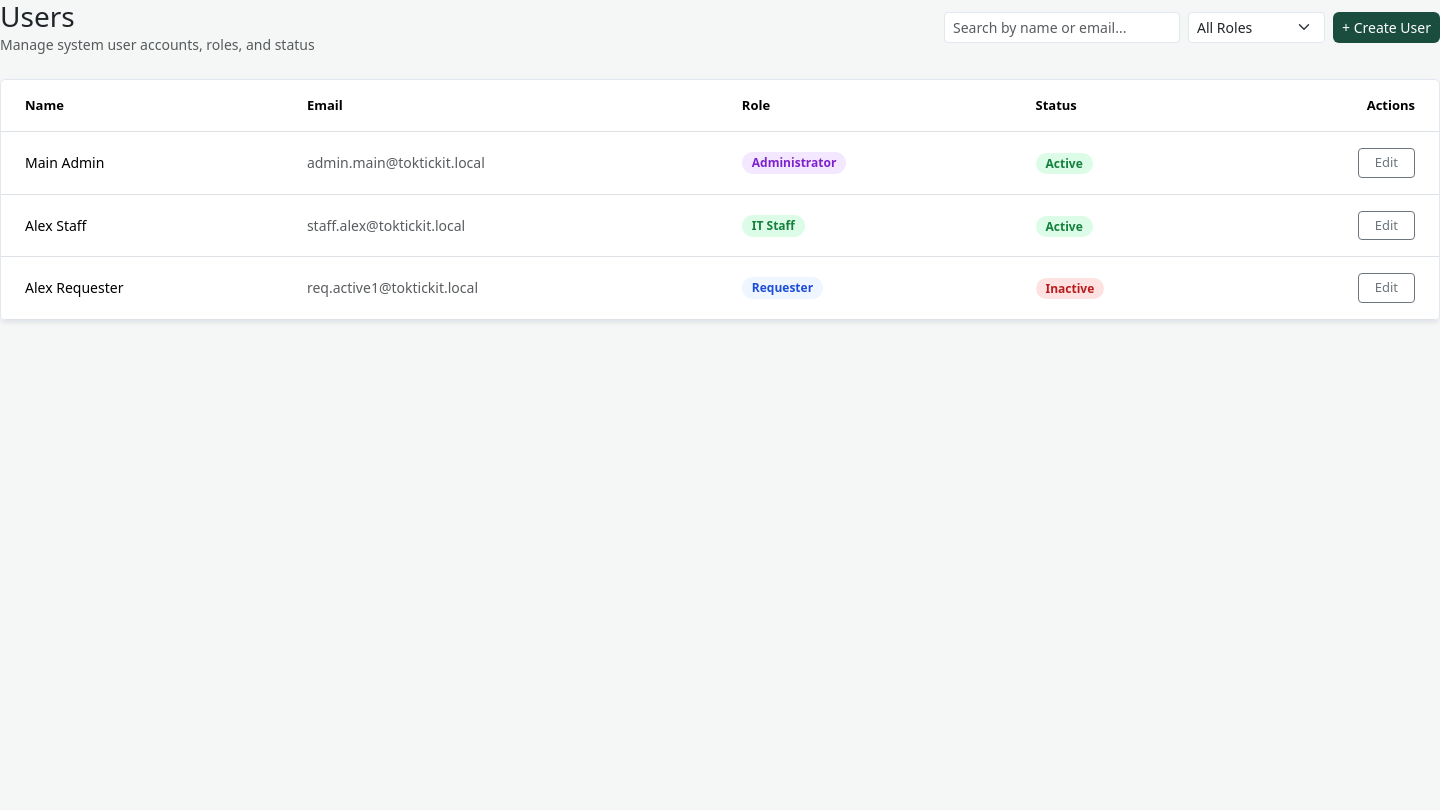
Test: UI-06, UI-07, UI-08: Administrator User Management Component Tests › UI-07: displays duplicate email 409 conflict error
Click the button with test id "create-user-btn".
click(1386, 27)  # box [1333,12,1439,43]
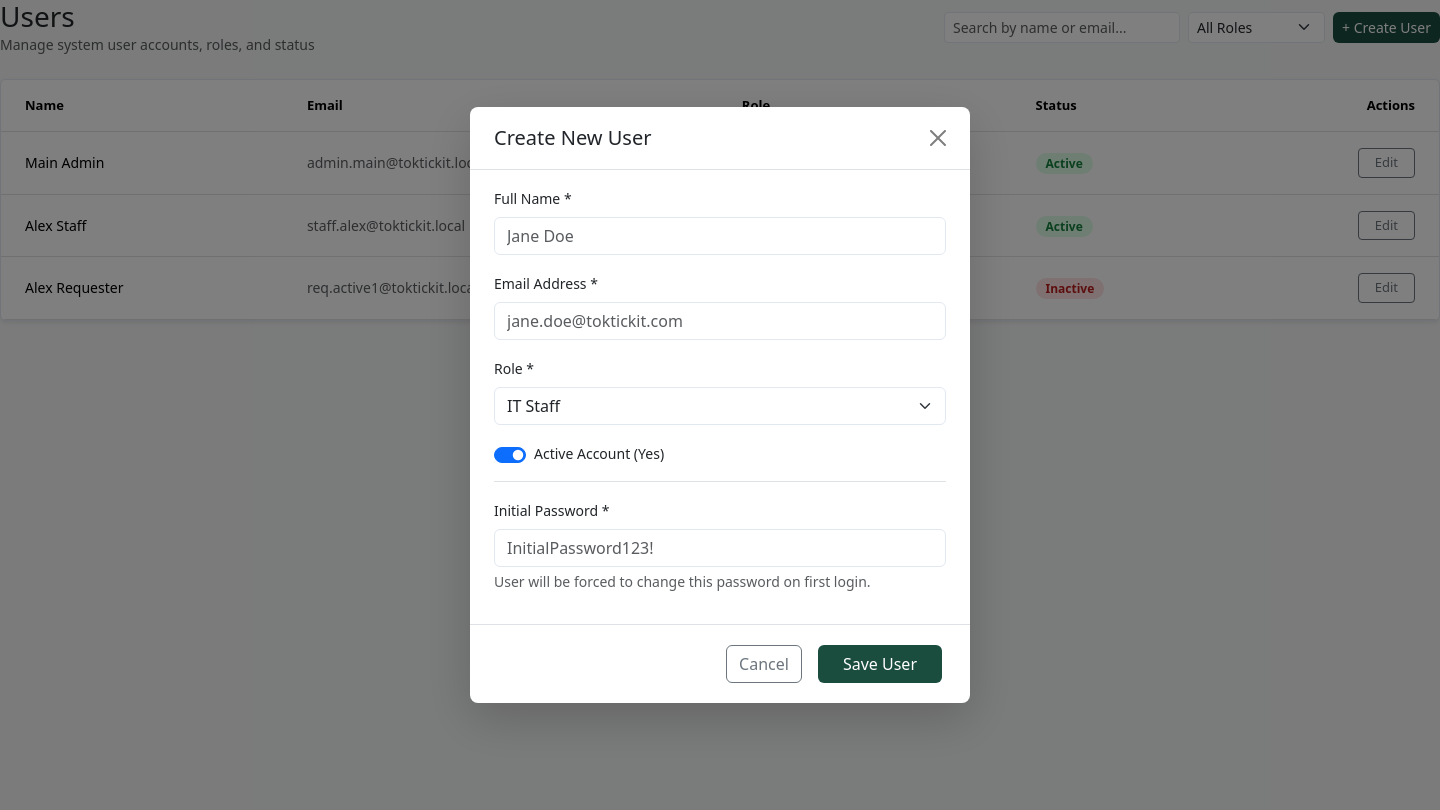
Type "Duplicate User" into the field with test id "input-name".
click(720, 236); type("Duplicate User")  # box [494,217,946,255]
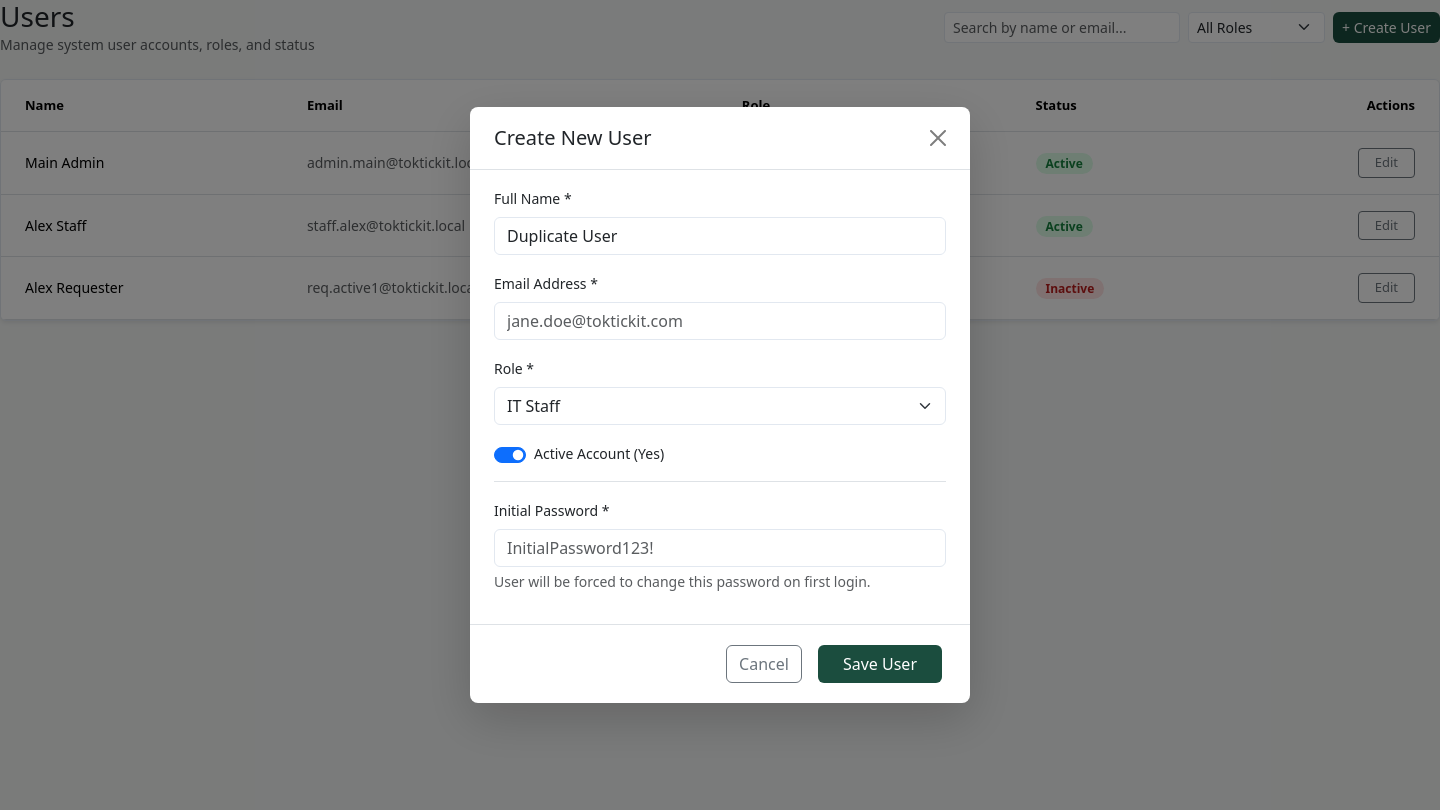
Type "admin.main@toktickit.local" into the field with test id "input-email".
click(720, 321); type("admin.main@toktickit.local")  # box [494,302,946,340]
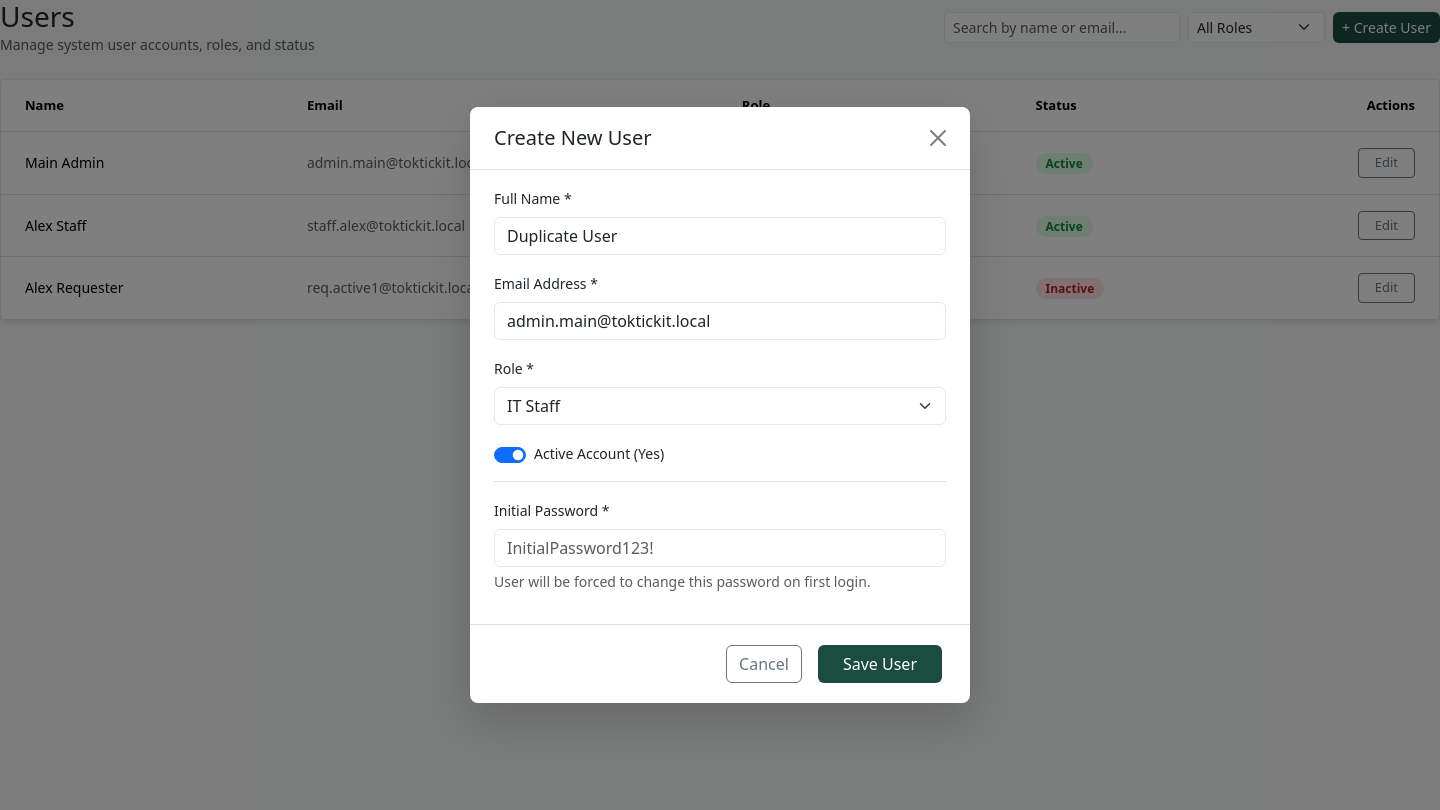
Type "InitialPassword123!" into the password field with test id "input-password".
click(720, 548); type("InitialPassword123!")  # box [494,529,946,567]
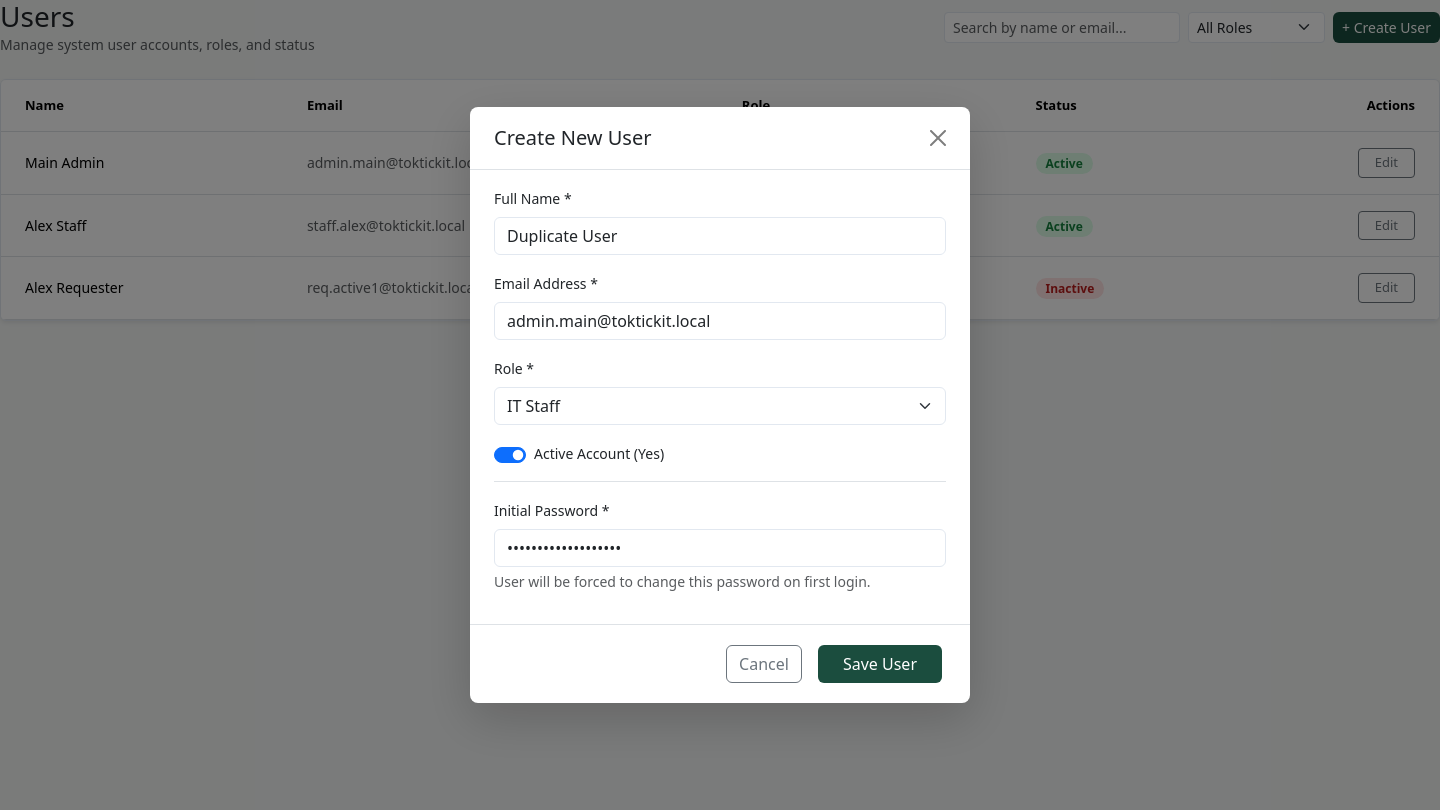
Click the button with test id "btn-save-user".
click(880, 664)  # box [818,645,942,683]
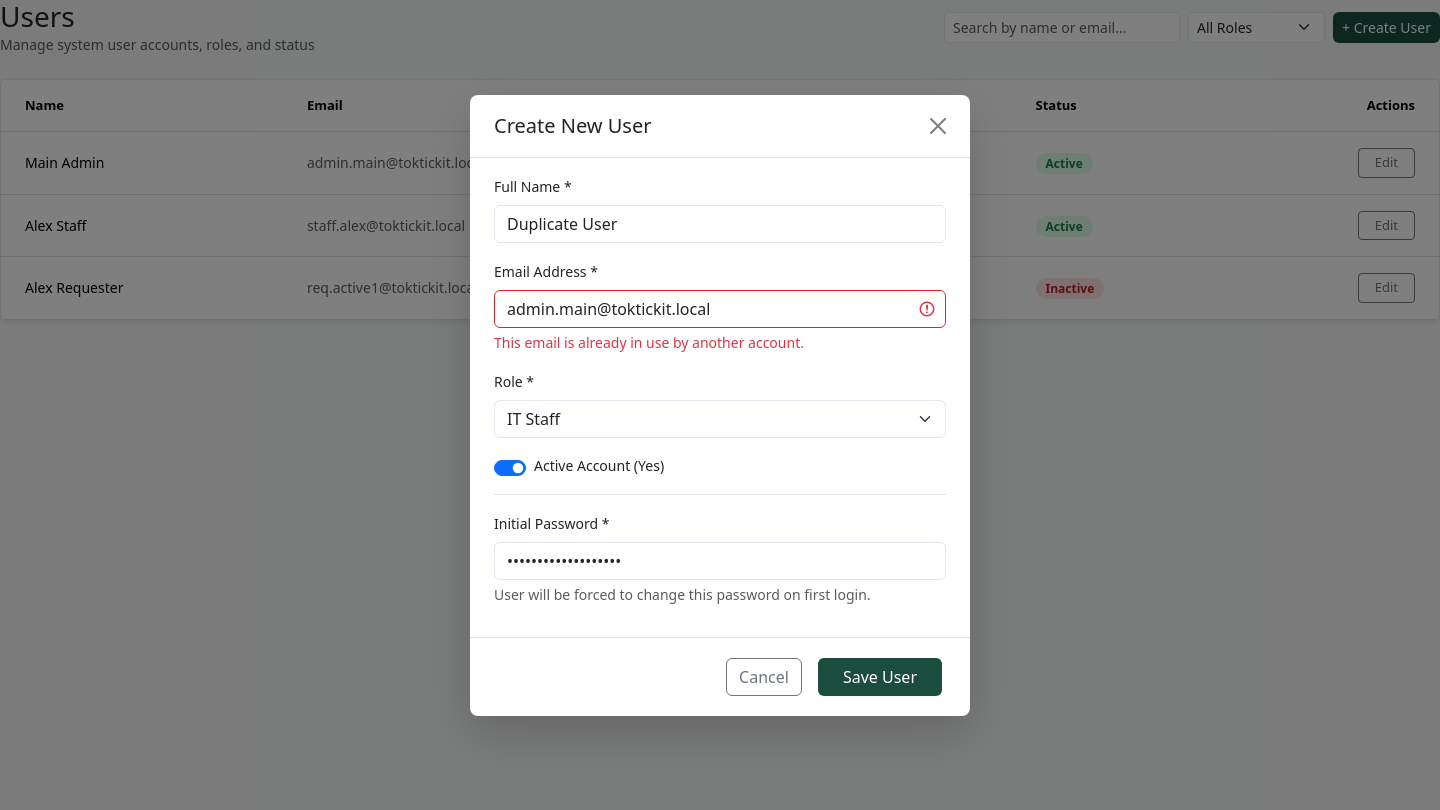
Expected: the text with test id "email-error" reads "This email is already in use by another account.", [494,332,804,352]
